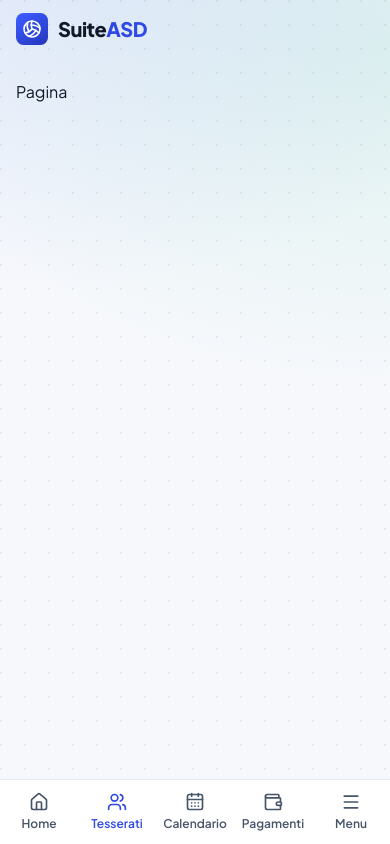
Scenario: AppShell › on a phone › opens a menu with the same groups, the active one open, and closes it after a choice
Click the button "Menu". click: (351, 812)
box: [312,780,389,843]
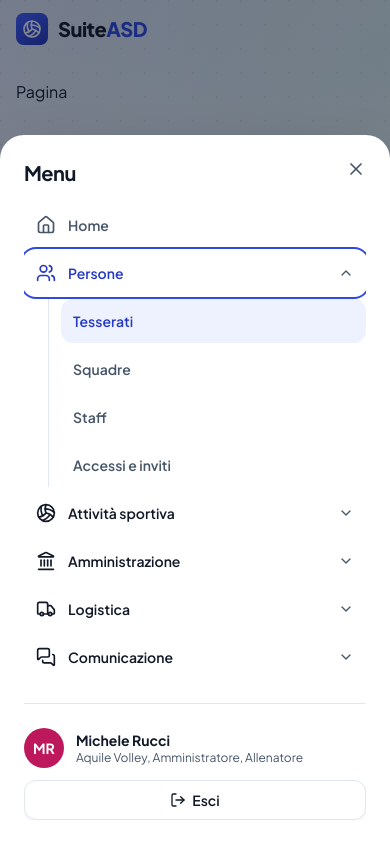
Click the button "Comunicazione". click: (121, 657)
box: [24,635,366,679]
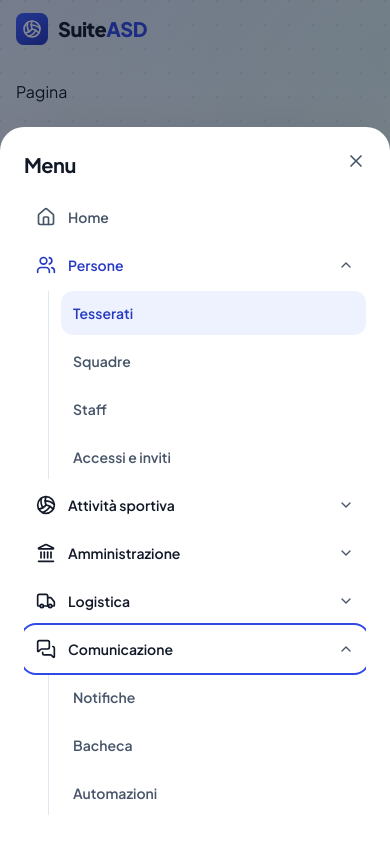
Click the link "Automazioni". click: (115, 793)
box: [73,784,157,802]
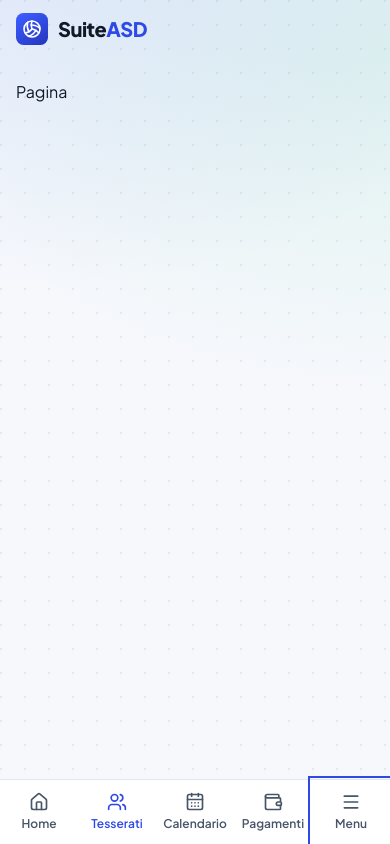
Check: the dialog is gone
